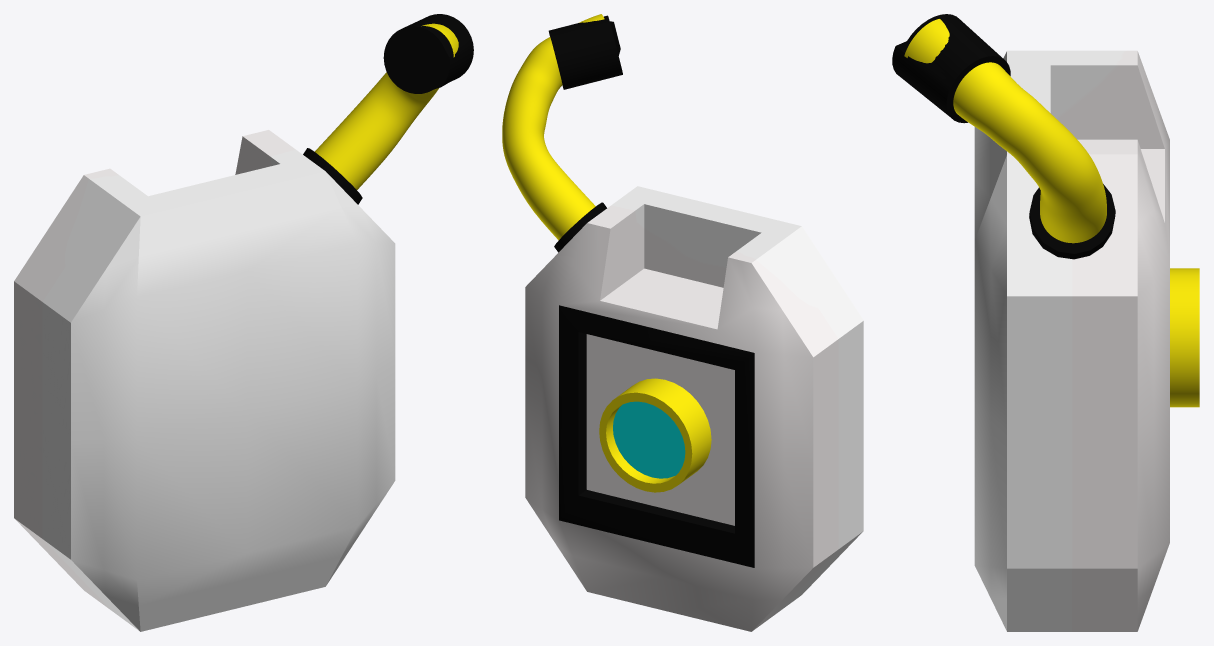
Rendered from astronaustBackpack.fbx.
The picture shows the model from 3 angles, left to right: view 1: azimuth 30°, elevation 25°; view 2: azimuth 150°, elevation 25°; view 3: azimuth 270°, elevation 25°; orthographic projection. The views are drawn at different scales.
Visible parts, largest first — view 1: Cube.001; view 2: Cube.001; view 3: Cube.001.
Part boxes in pixels (bbox=[...]): Cube.001: bbox=[14, 14, 473, 631]; Cube.001: bbox=[502, 14, 863, 631]; Cube.001: bbox=[892, 14, 1199, 631].
Bounding box in the file's own units: 158 × 220 × 94.23.
